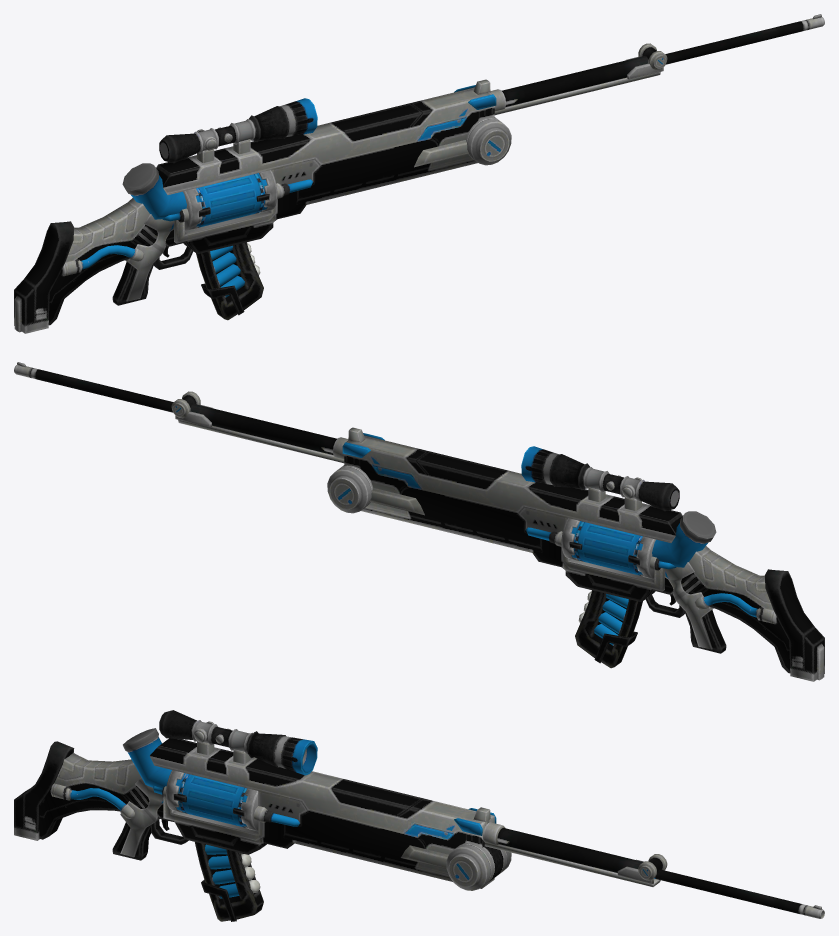
File: Kana_gun.fbx
3 views of the same model, one above another, from view 1: azimuth 30°, elevation 25°; view 2: azimuth 150°, elevation 25°; view 3: azimuth 330°, elevation 25° (orthographic).
Visible parts, largest first — view 1: Object001; view 2: Object001; view 3: Object001.
Boxes of the visible parts, box(x1,y1,x2,y2) form: Object001: box(14, 14, 824, 333); Object001: box(14, 362, 824, 681); Object001: box(14, 710, 824, 921).
Bounding box in the file's own units: 189 × 44.3 × 12.88.
